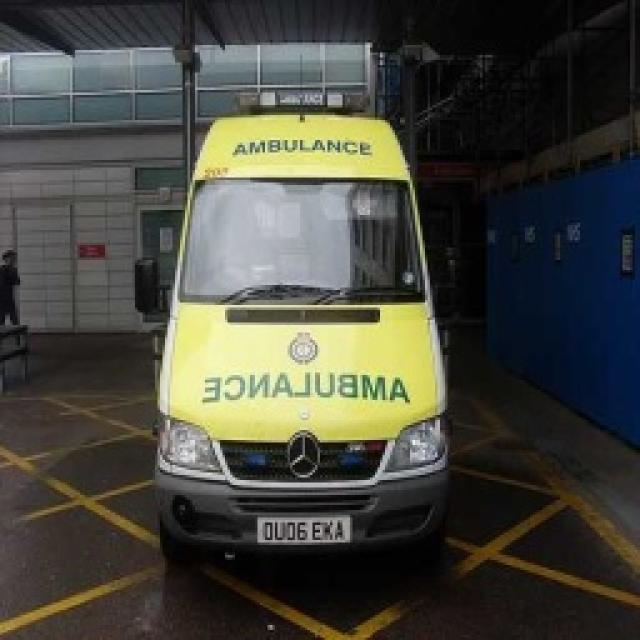emergency-vehicle: (136, 83, 494, 557)
